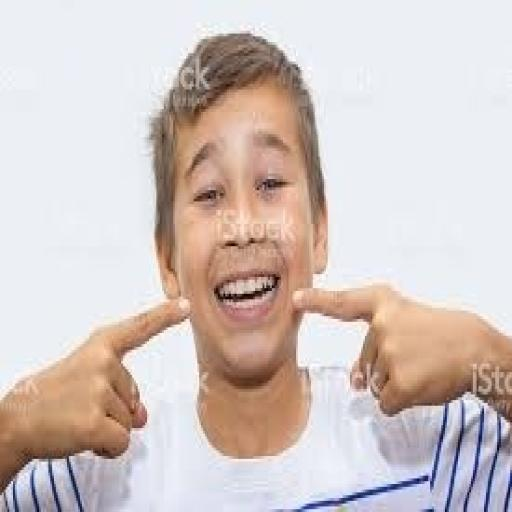laughing: (0, 22, 510, 510)
